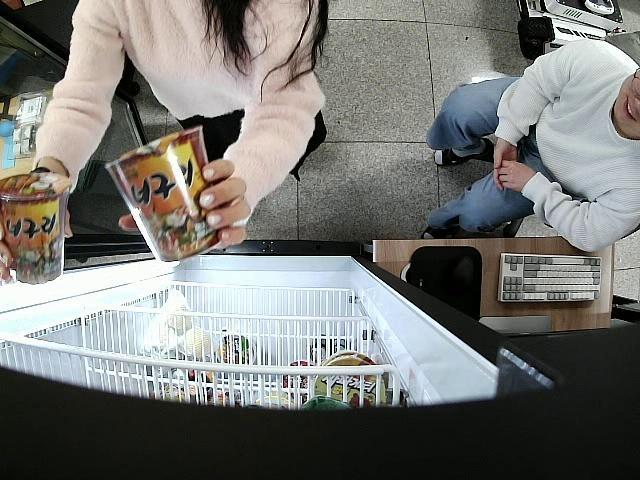06_nuguri_S: (106, 128, 222, 263), (0, 172, 71, 284)
